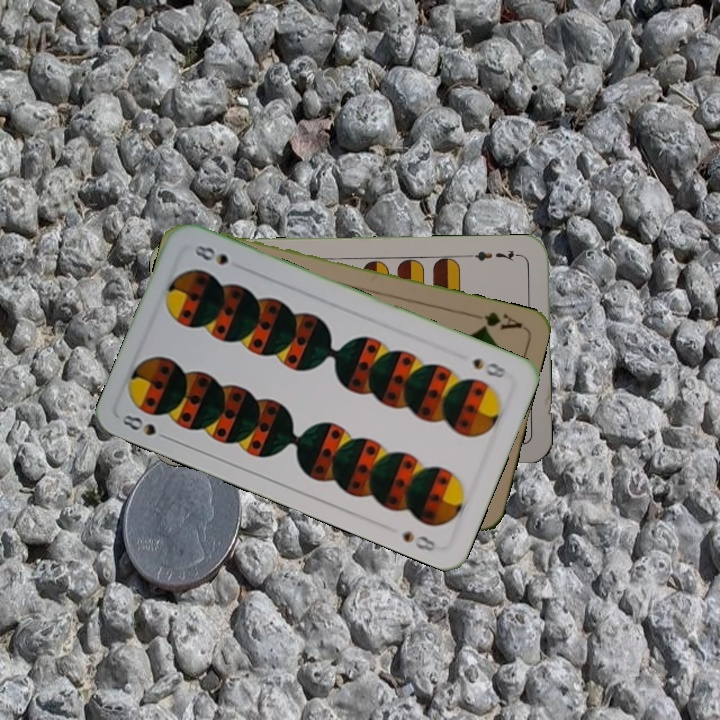E7: (464, 245, 523, 264)
GA: (477, 307, 525, 332)
S8: (117, 410, 174, 443), (468, 354, 509, 381)
